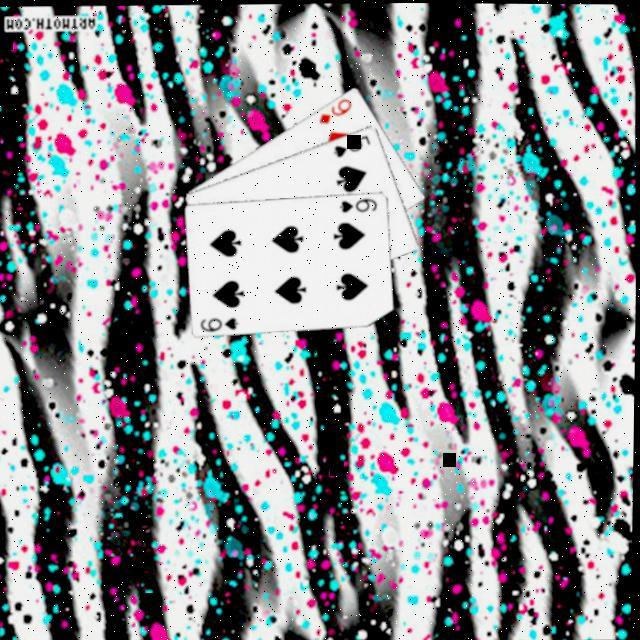5S: (332, 132, 374, 160)
6S: (338, 193, 381, 214), (199, 314, 242, 334)
9D: (316, 94, 356, 126)
